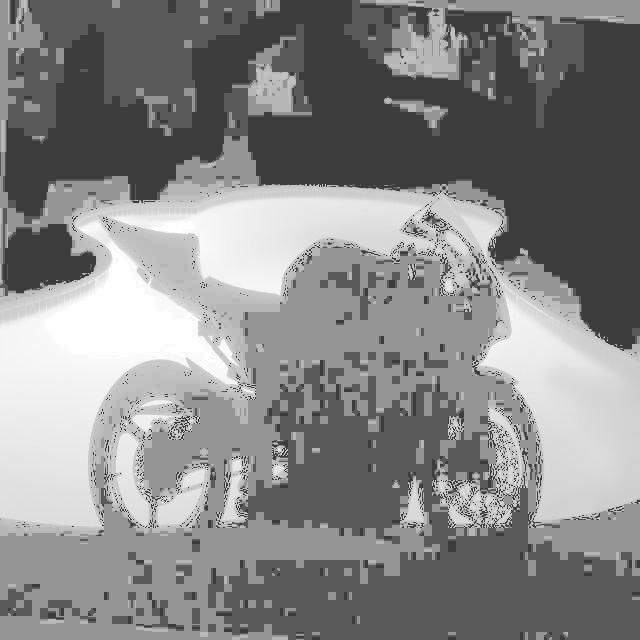Motorcycle: (99, 171, 572, 561)
